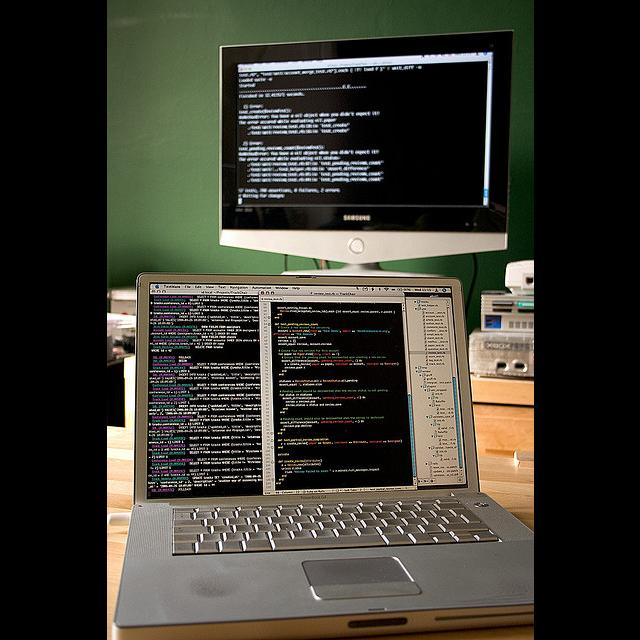Flat-Panel-Monitor: (218, 34, 512, 234)
Laptop: (113, 273, 533, 634)
